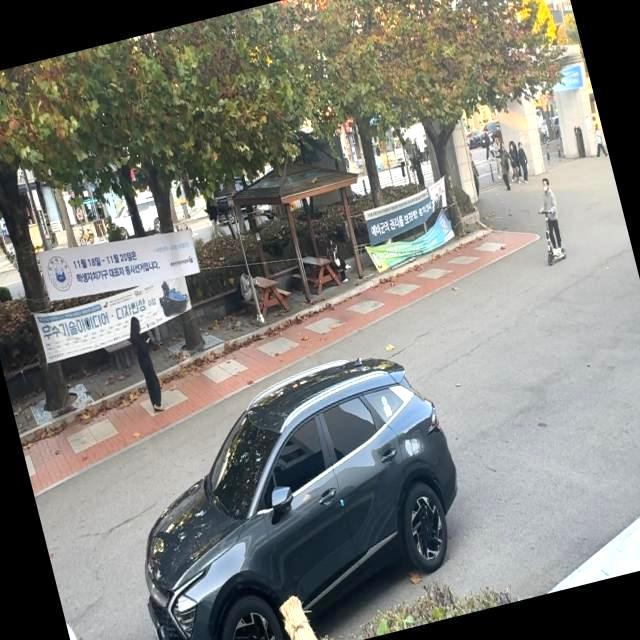bare_head: (539, 176, 559, 196)
human: (532, 170, 570, 255)
kickboard: (534, 247, 586, 265)
